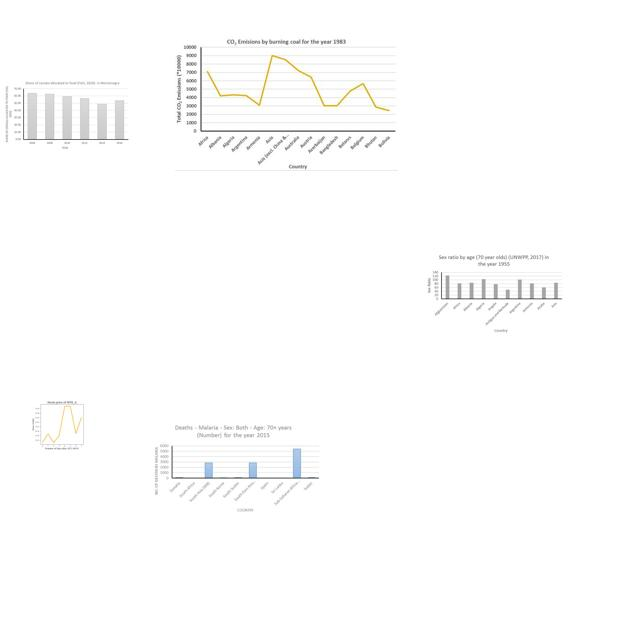Graph: (175, 37, 398, 171), (152, 423, 323, 515), (424, 252, 564, 335), (3, 79, 130, 152), (23, 398, 99, 450)
